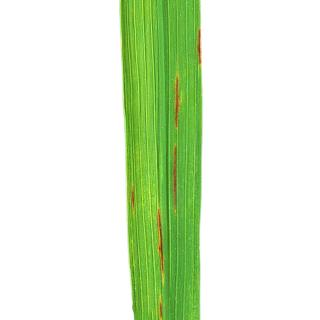Bercak-Cokelat-Sempit: (154, 207, 172, 287), (166, 142, 182, 213), (169, 72, 183, 130), (194, 26, 208, 68), (126, 182, 140, 216), (154, 294, 166, 320)
